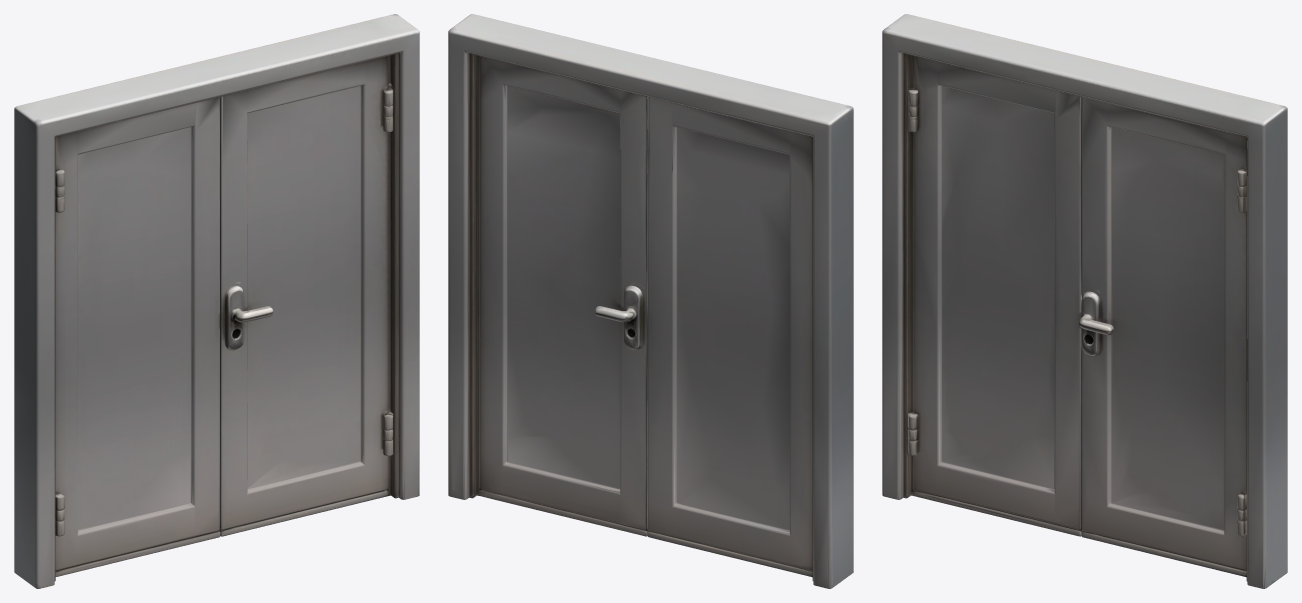
The model's file is 防火门(金属).glb.
The picture shows the model from 3 angles, left to right: view 1: azimuth 30°, elevation 25°; view 2: azimuth 150°, elevation 25°; view 3: azimuth 330°, elevation 25°; orthographic projection.
Visible parts, largest first — view 1: node_0; view 2: node_0; view 3: node_0.
Part boxes in pixels (left/top/right/bottom): node_0: left=14, top=14, right=419, bottom=588; node_0: left=448, top=14, right=853, bottom=588; node_0: left=882, top=14, right=1287, bottom=588.
Size of the model in its own units: 0.7825 by 0.9086 by 0.1163.
Materials: 1 (1 with a texture image).
